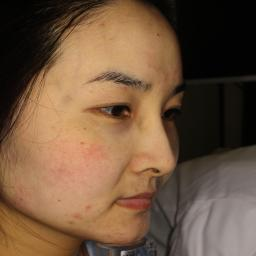ance: (53, 84, 83, 114), (142, 52, 172, 80), (46, 161, 74, 187), (106, 116, 142, 136), (94, 16, 116, 36), (72, 132, 92, 152), (15, 188, 31, 208), (83, 202, 99, 214), (72, 210, 88, 222), (64, 218, 82, 228)
